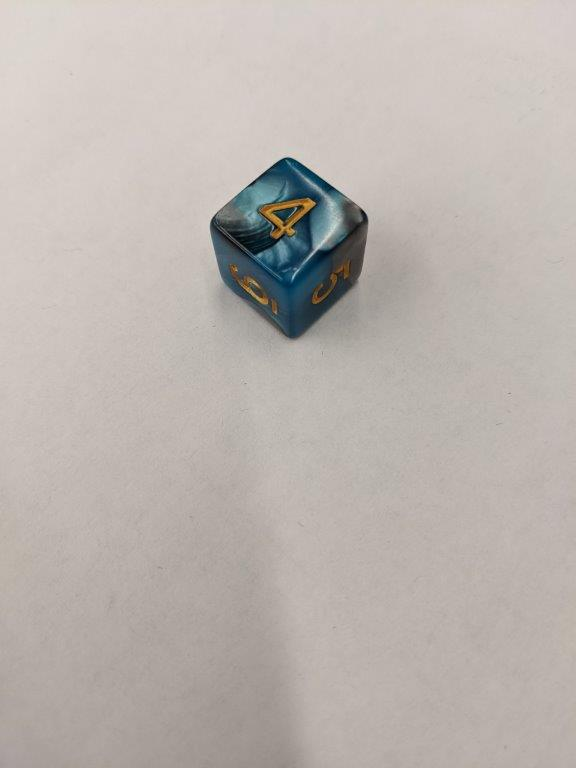d6-4: (210, 153, 371, 336)
